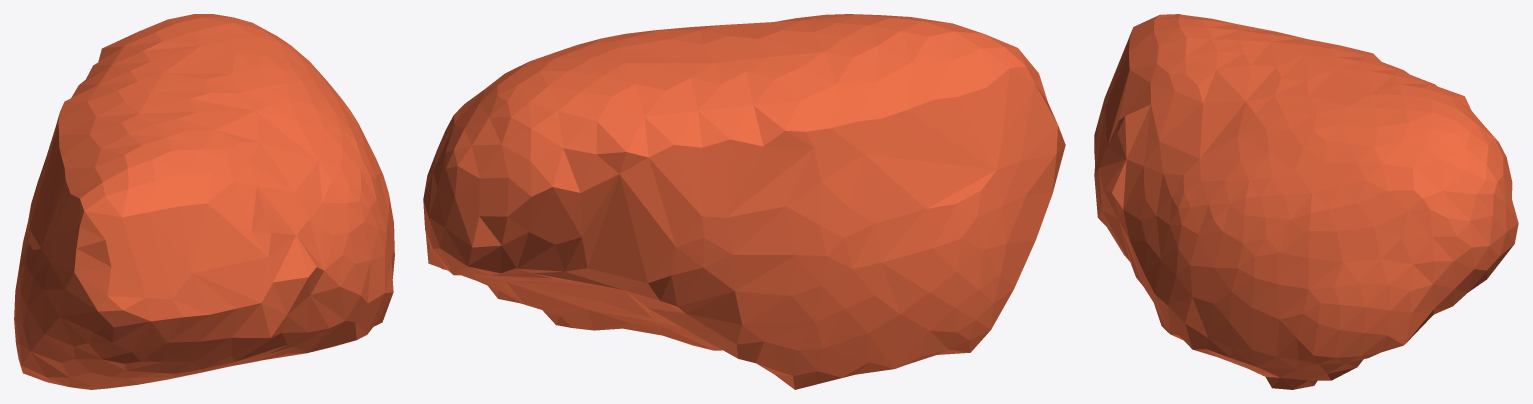
File: Model_631_RH__Superior_vestibular_nucleus_(SuVe).obj
The picture shows the model from 3 angles, left to right: view 1: azimuth 30°, elevation 25°; view 2: azimuth 150°, elevation 25°; view 3: azimuth 270°, elevation 25°; orthographic projection. The views are drawn at different scales.
Size of the model in its own units: 1.39 by 0.8839 by 1.32.
